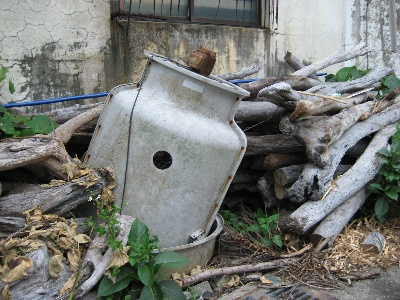water_tower: (83, 50, 250, 281)
